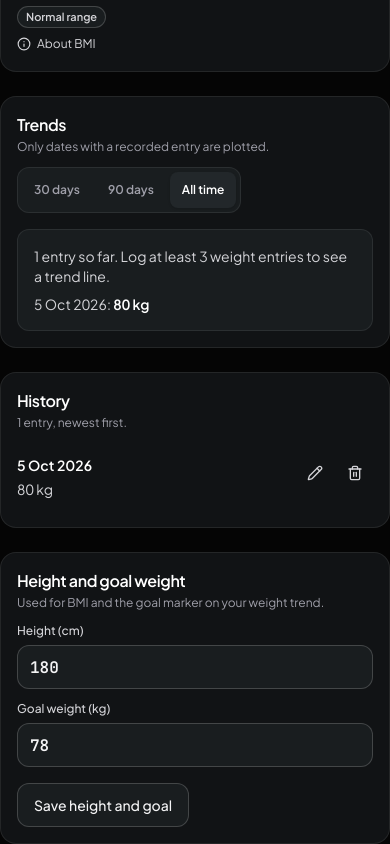
BodyMetricsView › asks before deleting, and cancel keeps the entry
(page scrolled)
Click the button named "Delete entry for 5 Oct 2026" at (355, 473), box [337, 455, 373, 491]
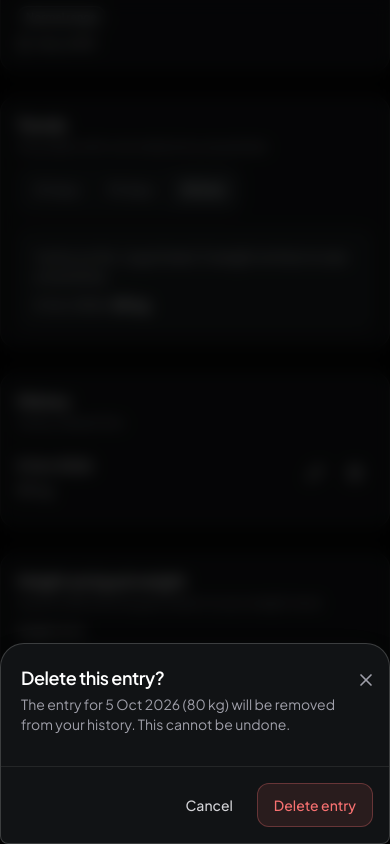
Check: the text "Delete this entry?" is shown, box [21, 666, 164, 689]
Check: the button "Cancel" is shown
Click the button "Cancel" at (209, 805), box [170, 783, 249, 827]
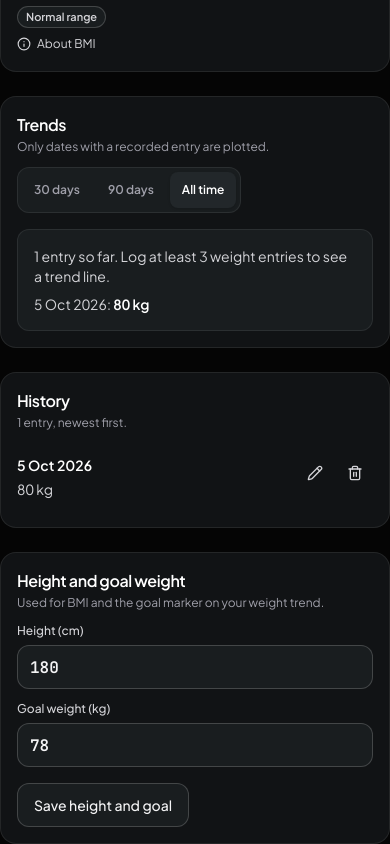
Click the button named "Delete entry for 5 Oct 2026" at (355, 473), box [337, 455, 373, 491]
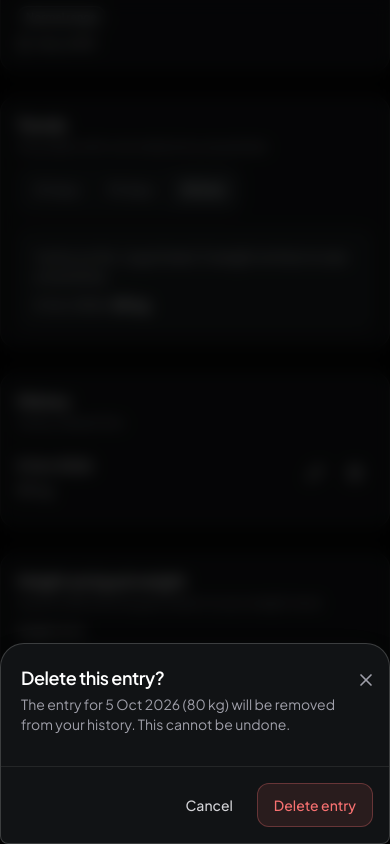
Check: the button "Delete entry" is shown
Click the button "Delete entry" at (315, 805), box [257, 783, 373, 827]
(page scrolled)
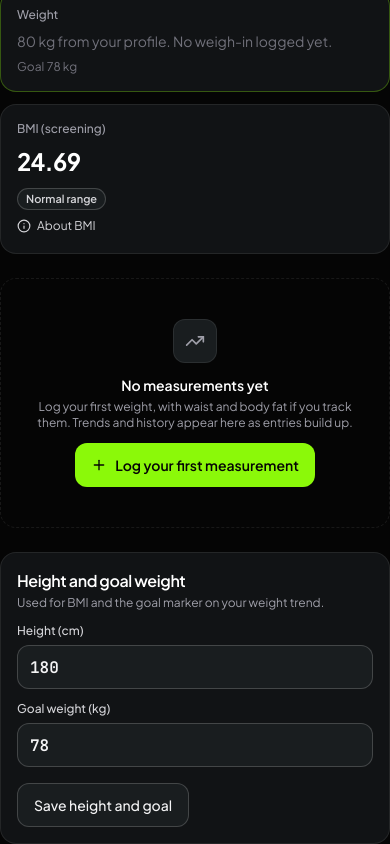
Check: the text "No measurements yet" is shown, box [121, 376, 269, 394]
